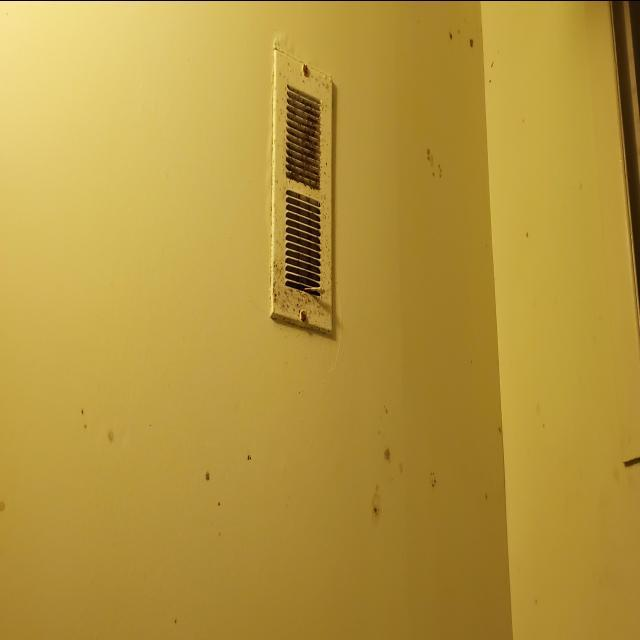Crack: (425, 154, 449, 180), (428, 477, 442, 492), (201, 470, 215, 482), (381, 448, 391, 464), (445, 32, 461, 42), (371, 504, 383, 517), (471, 37, 475, 55), (244, 457, 254, 461)
